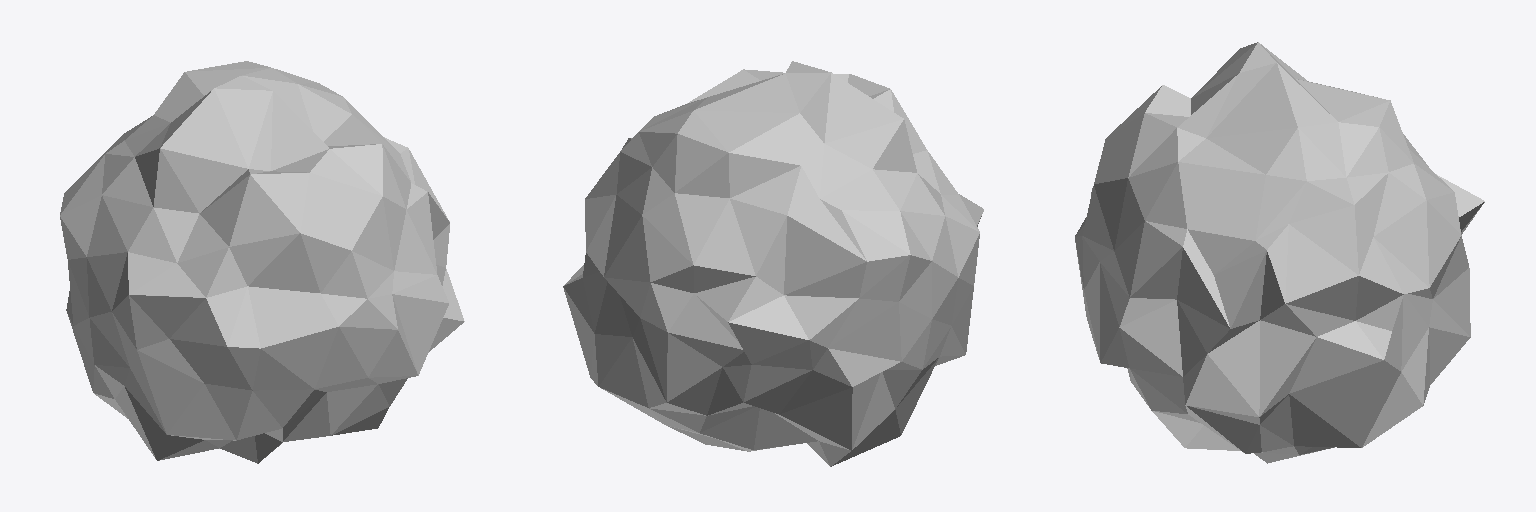
File: fire_000024.obj
The picture shows the model from 3 angles: view 1: azimuth 30°, elevation 25°; view 2: azimuth 150°, elevation 25°; view 3: azimuth 270°, elevation 25°; orthographic projection.
Visible parts, largest first — view 1: Icosphere; view 2: Icosphere; view 3: Icosphere.
Boxes of the visible parts, x1,y1,x2,y2 form: Icosphere: [60, 61, 464, 463]; Icosphere: [563, 61, 983, 466]; Icosphere: [1075, 42, 1484, 463].
Size of the model in its own units: 1.52 by 1.61 by 1.59.